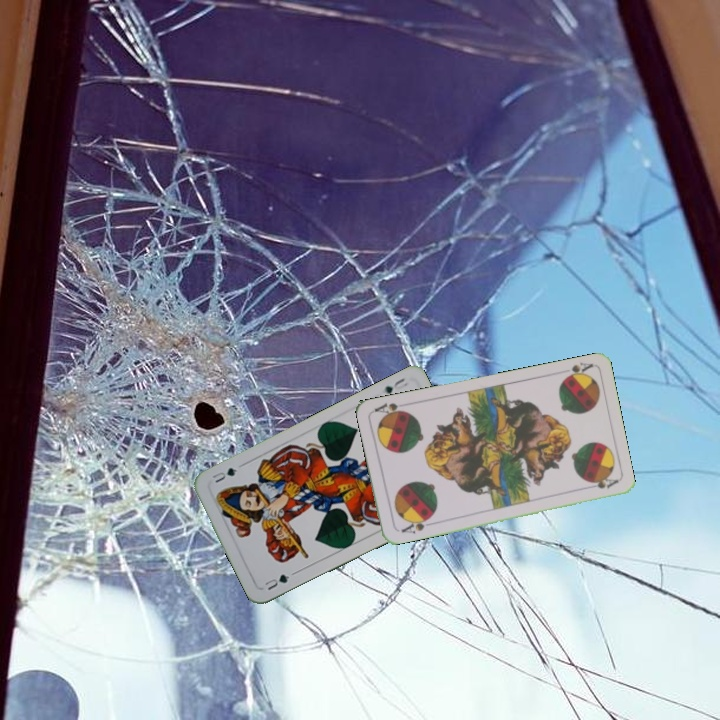GU: (261, 570, 292, 593), (380, 374, 410, 396)
SA: (558, 358, 595, 383), (397, 513, 435, 536)
